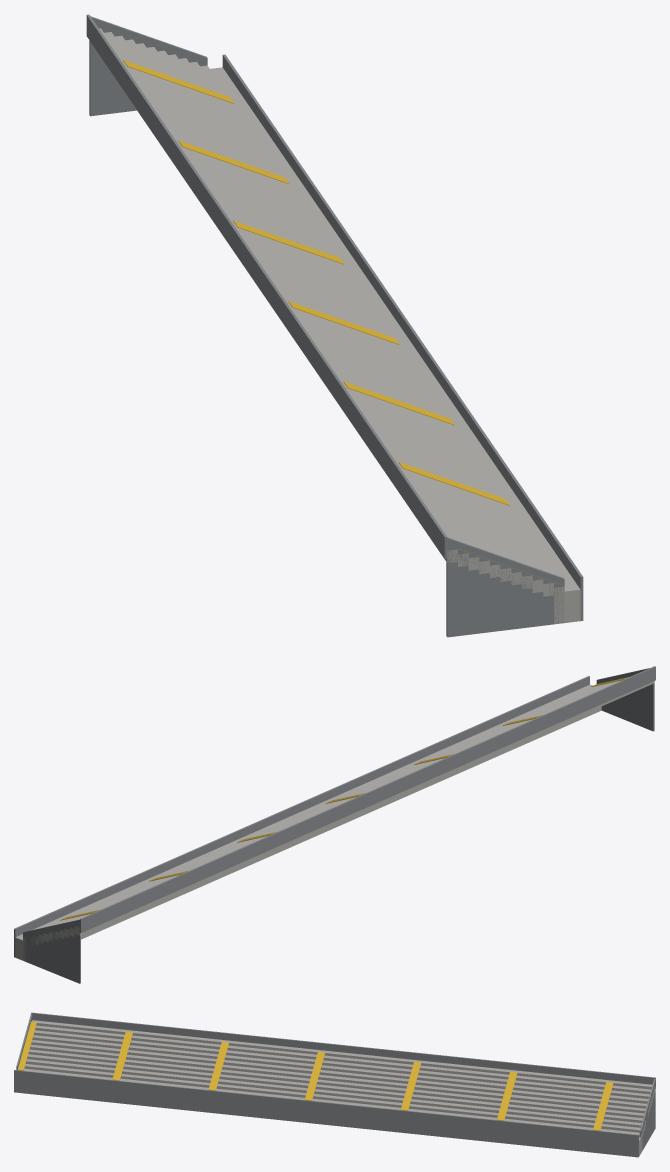
File: spo_stand_a_5.glb
The picture shows the model from 3 angles, top to bottom: view 1: azimuth 30°, elevation 25°; view 2: azimuth 150°, elevation 25°; view 3: azimuth 270°, elevation 25°; orthographic projection. The views are drawn at different scales.
Parts seen in each view (by area): view 1: sao-paulo-sector-a-5; view 2: sao-paulo-sector-a-5; view 3: sao-paulo-sector-a-5.
Boxes of the visible parts, box(x1,y1,x2,y2) form: sao-paulo-sector-a-5: box(86, 14, 583, 637); sao-paulo-sector-a-5: box(14, 666, 655, 983); sao-paulo-sector-a-5: box(14, 1012, 655, 1157).
Bounding box in the file's own units: 32.29 × 8 × 92.51.
